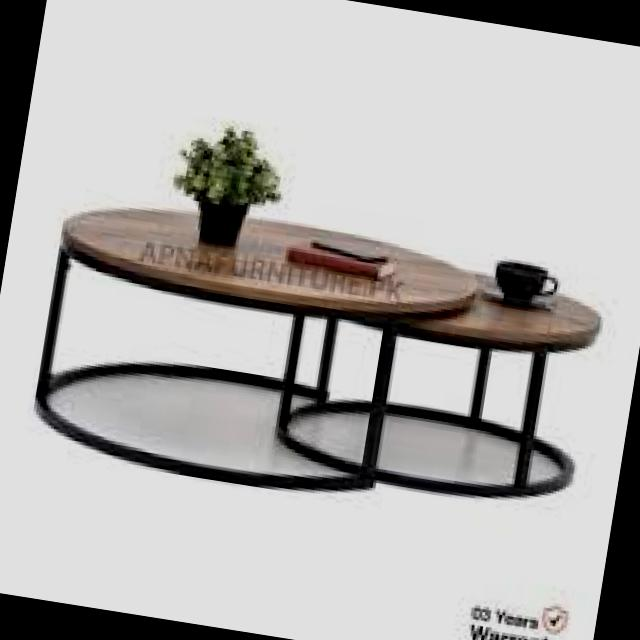obstacle: (23, 80, 640, 586)
